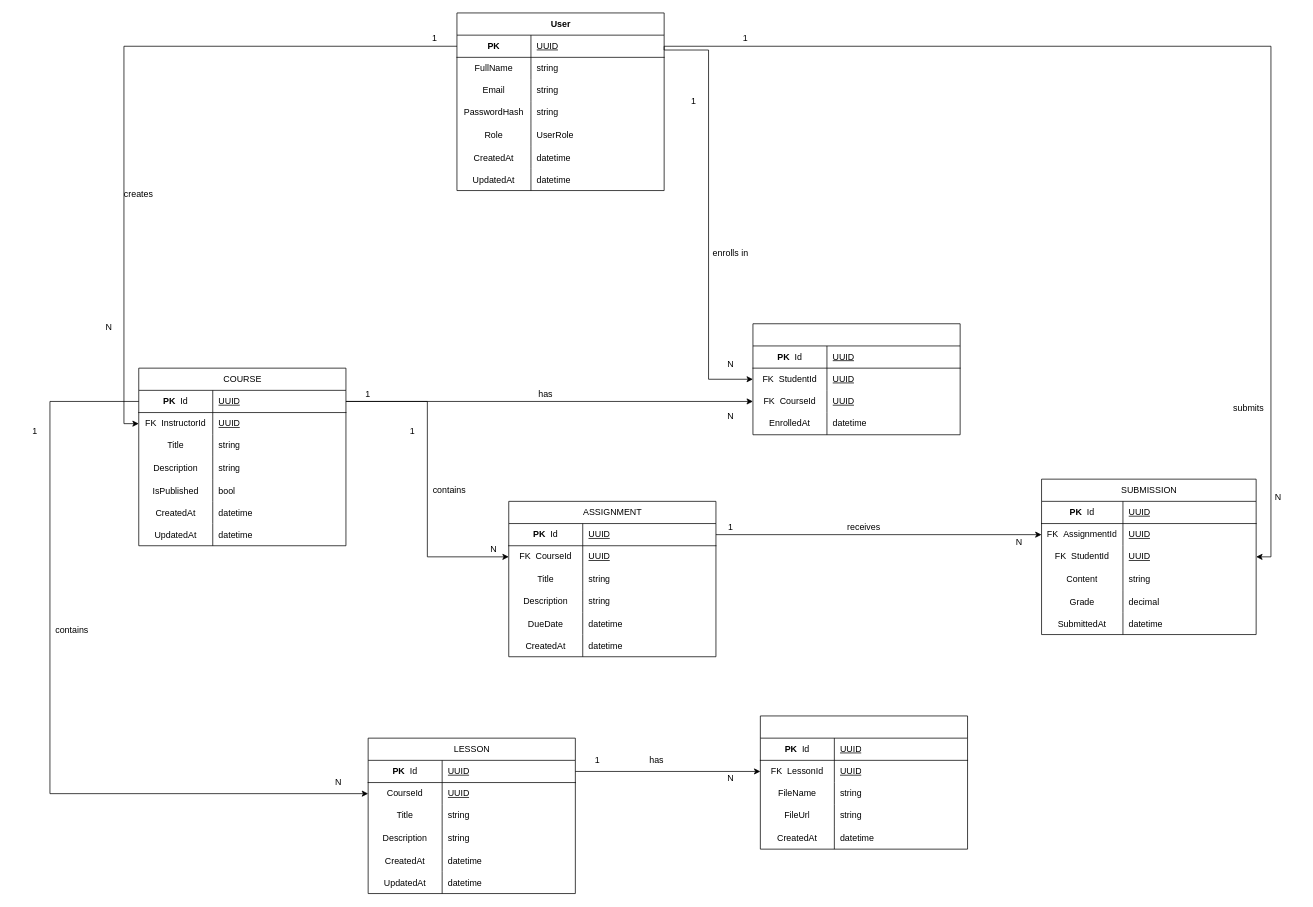
Some shapes in this 1313 by 907 pixel diagram are drawn without their labels. The shapes that lost their labels are listed below. From the top down, each one's box as (x1, y1, x2, y2) in pixels, then its label:
(752, 323, 960, 435): ENROLLMENT
(760, 715, 968, 849): RESOURCE
